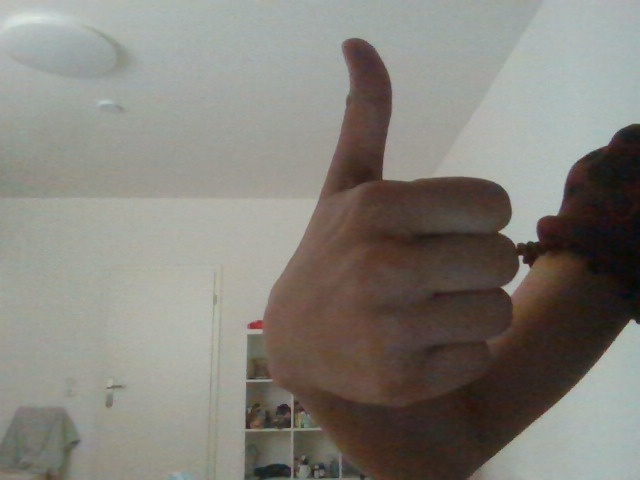Thumbs up: (256, 37, 523, 409)
